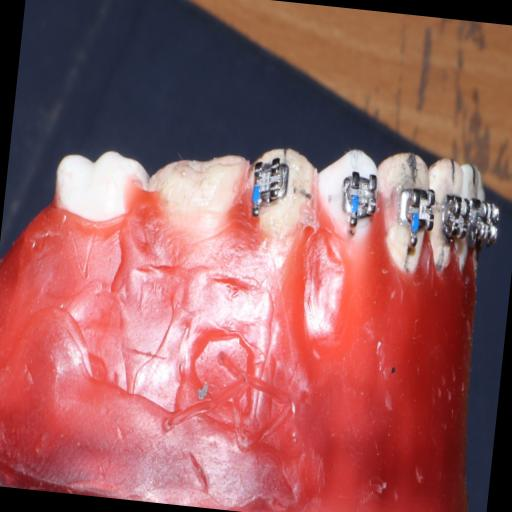incorrect_brace: (250, 154, 292, 202)
